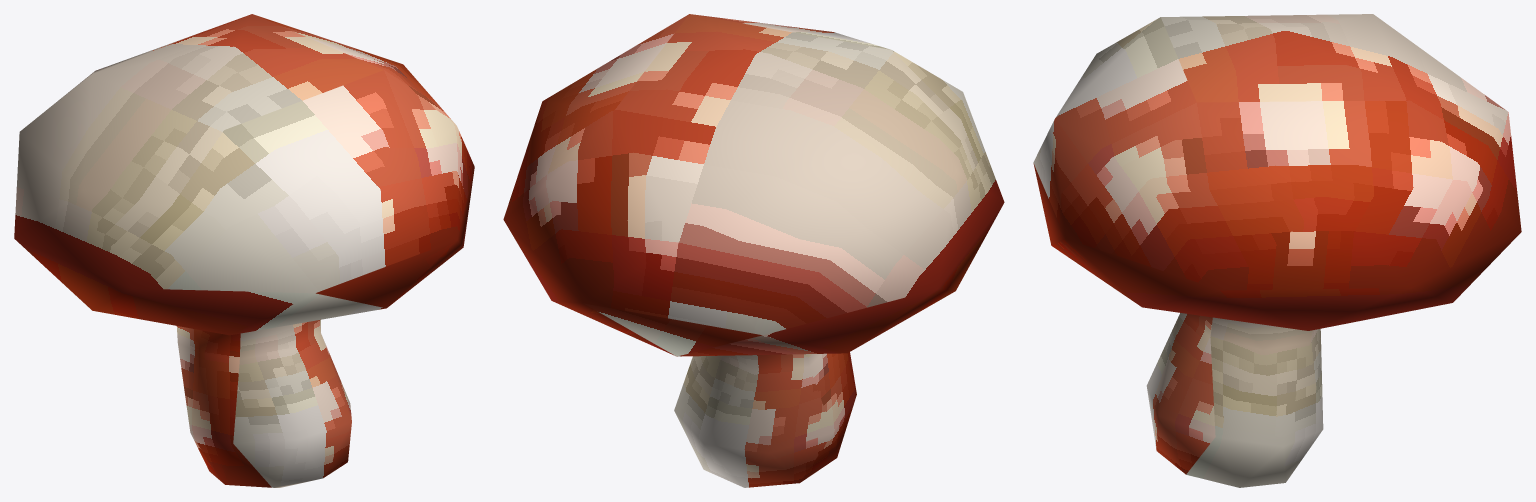
File: fg_mush5.dae
3 views of the same model, side by side, from view 1: azimuth 30°, elevation 25°; view 2: azimuth 150°, elevation 25°; view 3: azimuth 270°, elevation 25° (orthographic). The views are drawn at different scales.
Visible parts, largest first — view 1: fg_mush5; view 2: fg_mush5; view 3: fg_mush5.
Boxes of the visible parts, box(x1,y1,x2,y2) form: fg_mush5: box(14, 14, 474, 487); fg_mush5: box(503, 14, 1004, 487); fg_mush5: box(1033, 14, 1521, 487).
Bounding box in the file's own units: 13.76 × 13.69 × 13.76.
Materials: 1 (1 with a texture image).
